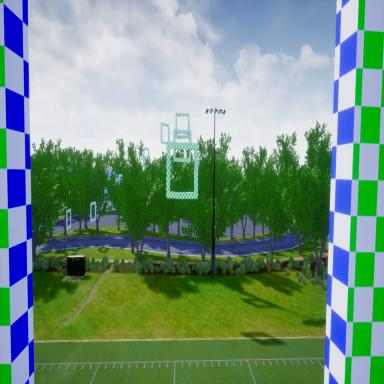gate: (166, 139, 199, 201), (173, 130, 192, 163)
